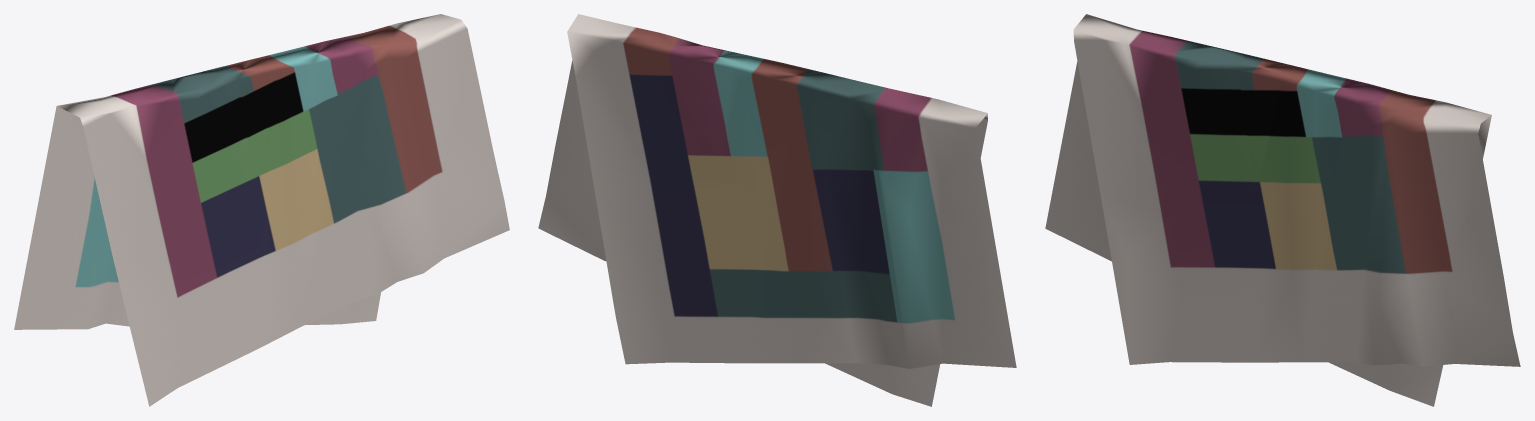
Rendered from bedding_002.fbx.
The picture shows the model from 3 angles, left to right: view 1: azimuth 30°, elevation 25°; view 2: azimuth 150°, elevation 25°; view 3: azimuth 330°, elevation 25°; orthographic projection. The views are drawn at different scales.
Visible parts, largest first — view 1: bedding_002_low; view 2: bedding_002_low; view 3: bedding_002_low.
Part boxes in pixels (x1,y1,x2,y2): bedding_002_low: [14, 14, 509, 406]; bedding_002_low: [538, 14, 1016, 406]; bedding_002_low: [1045, 14, 1520, 406].
Bounding box in the file's own units: 188 × 114 × 22.25.
